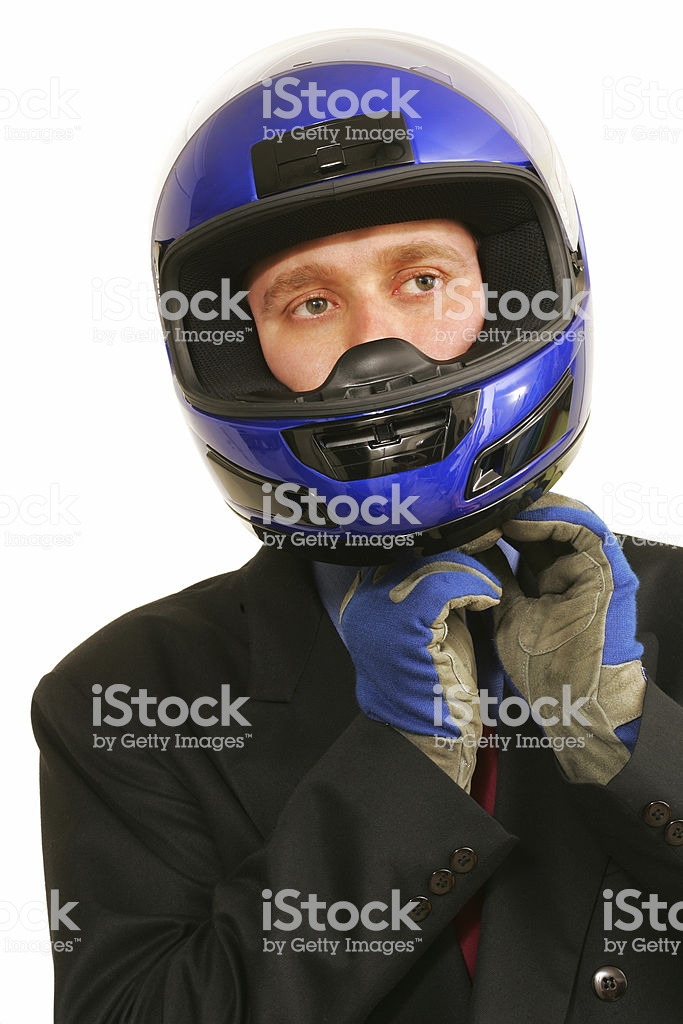helmet: (137, 50, 625, 531)
